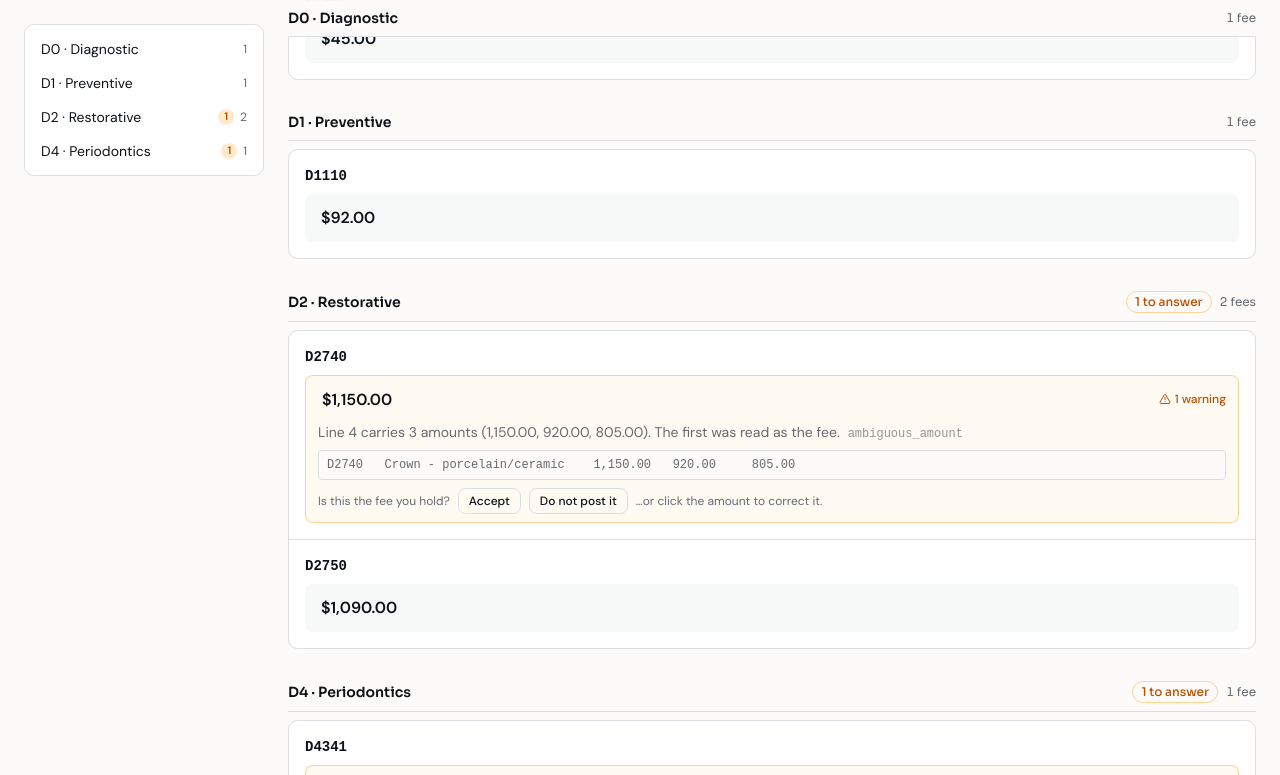
Test: editing a fee in place › refuses an unreadable amount in place, without a round trip
(page scrolled)
Click the button with test id "fees-fee-edit" showing "$1,150.00". click: {"x": 367, "y": 400}
box: [318, 384, 415, 416]
(page scrolled)
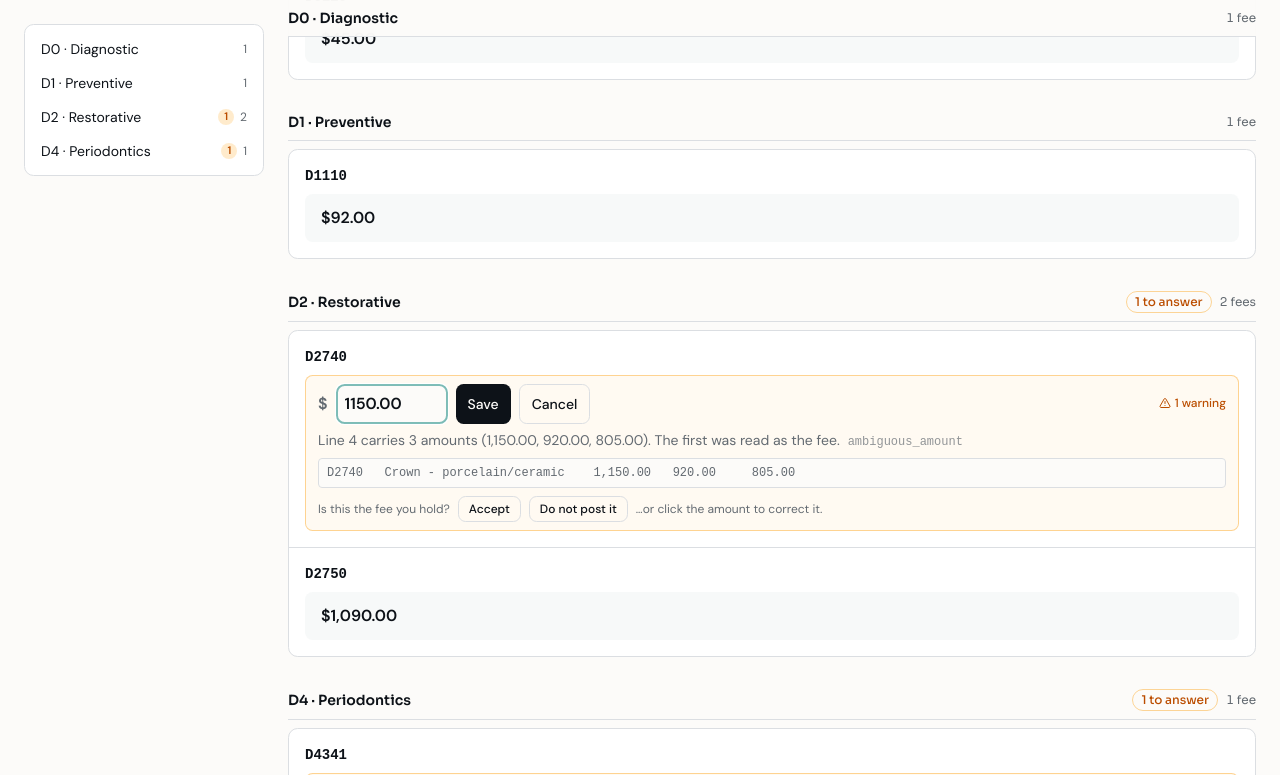
Replace the text in the field with test id "fees-fee-input" with "nine twenty". click: {"x": 392, "y": 404}
box: [336, 384, 448, 424]
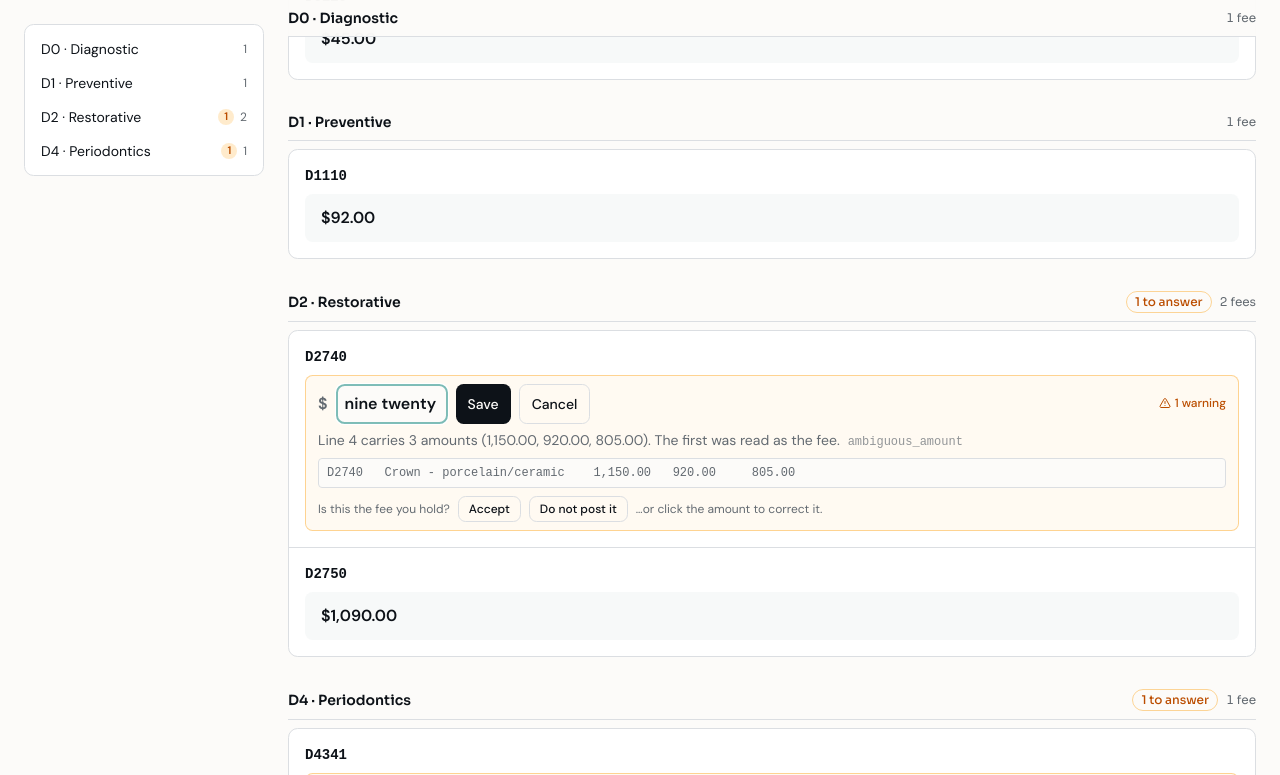
Click the button with test id "fees-fee-save". click: {"x": 483, "y": 404}
box: [456, 384, 511, 424]
(page scrolled)
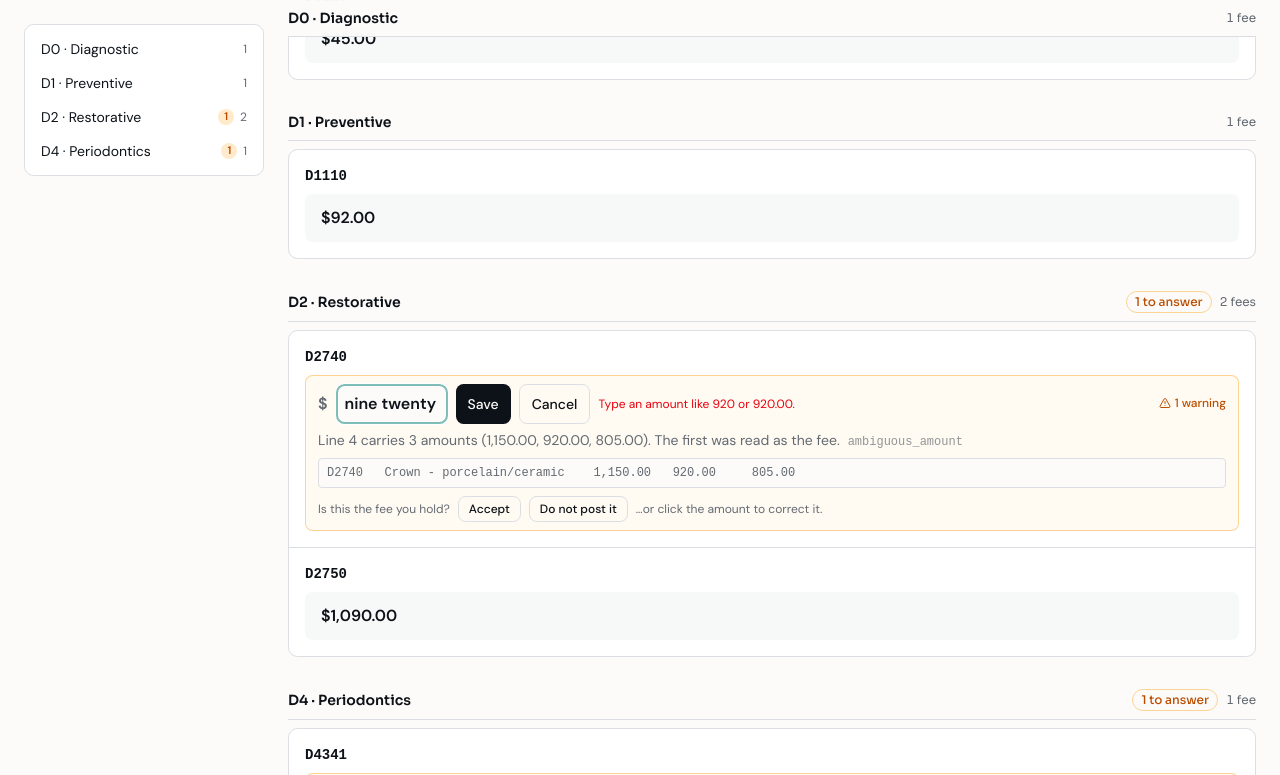
Expected: the text with test id "fees-fee-error" shows "Type an amount", [598, 396, 795, 412]
